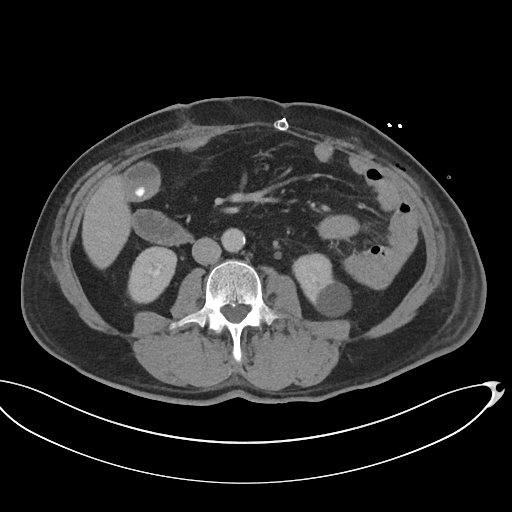Lesion: (311, 278, 354, 321)
